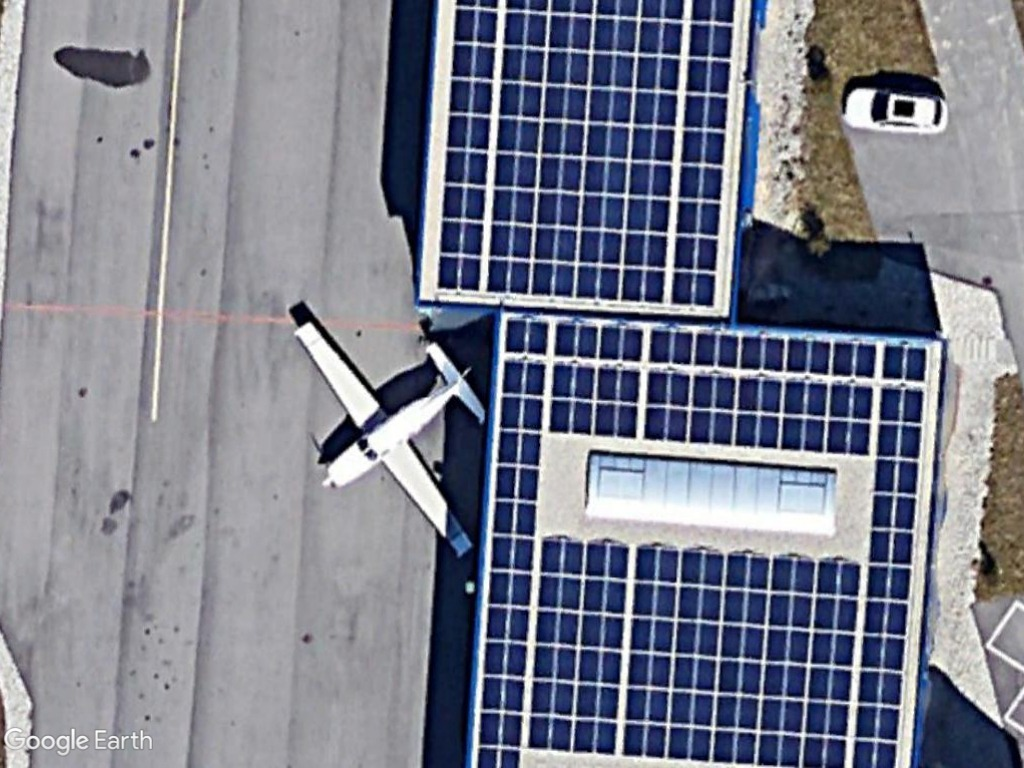car: (839, 86, 952, 137)
trainer: (290, 317, 486, 559)
